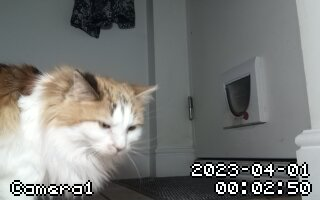clara: (2, 62, 160, 199)
